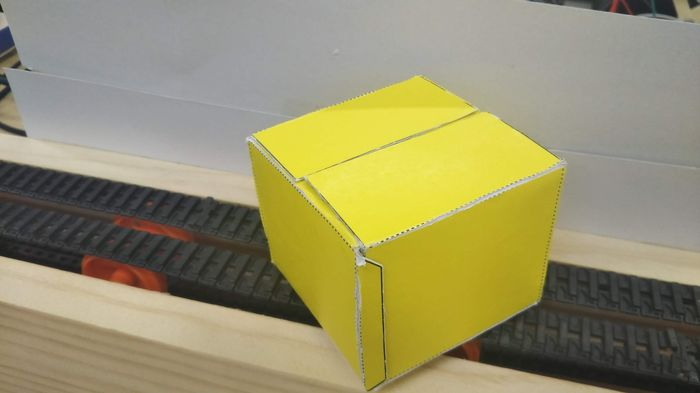box4: (243, 73, 568, 390)
